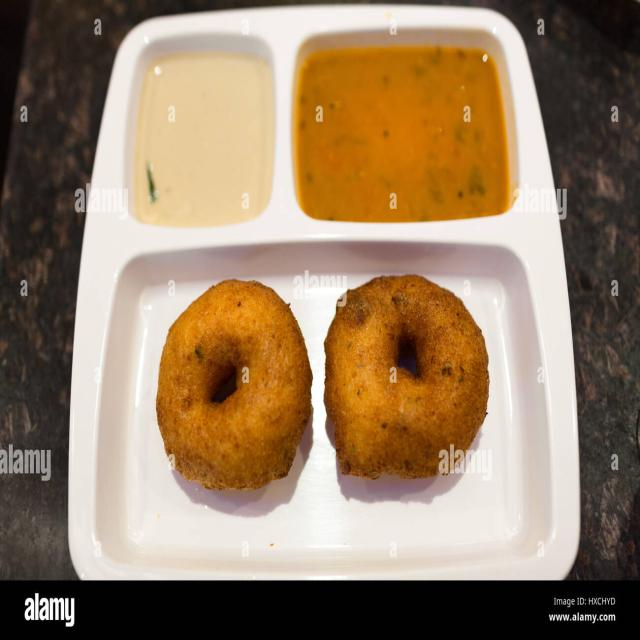MEDU VADA: (324, 275, 489, 479), (156, 279, 312, 490)
